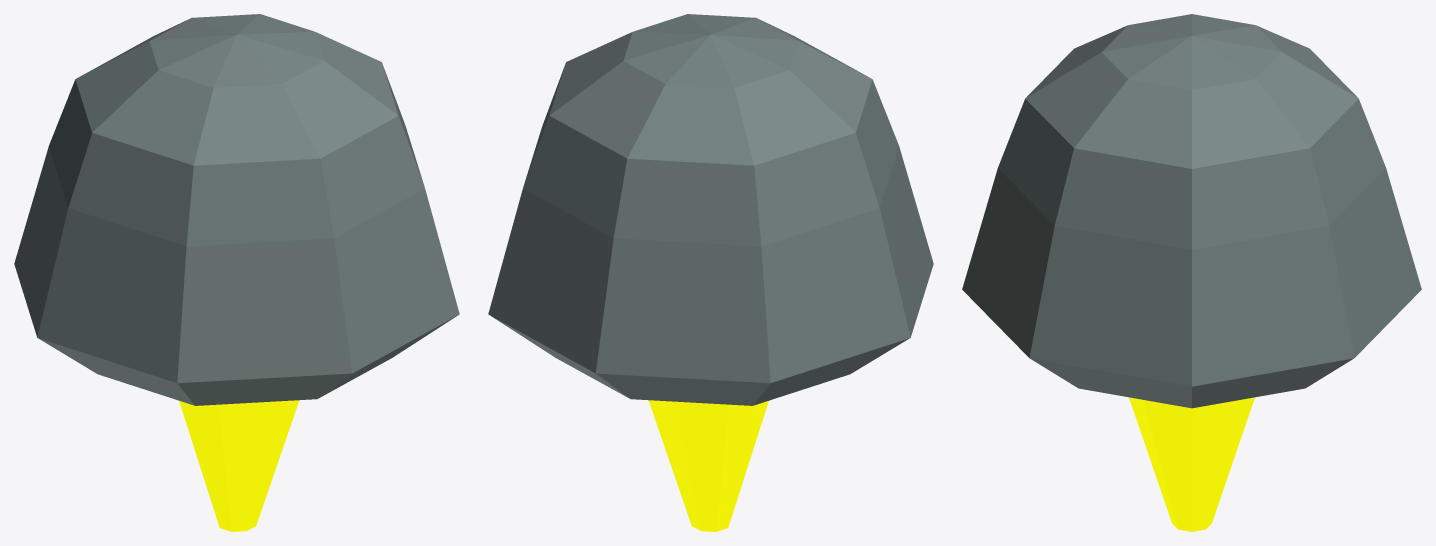
File: testRun.fbx
3 views of the same model, side by side, from view 1: azimuth 30°, elevation 25°; view 2: azimuth 150°, elevation 25°; view 3: azimuth 270°, elevation 25° (orthographic).
Parts seen in each view (by area): view 1: pSphere1; view 2: pSphere1; view 3: pSphere1.
Boxes of the visible parts, left/top/right/bottom form: pSphere1: left=14, top=14, right=459, bottom=531; pSphere1: left=488, top=14, right=933, bottom=531; pSphere1: left=962, top=14, right=1421, bottom=531.
Bounding box in the file's own units: 195 × 228 × 195.
